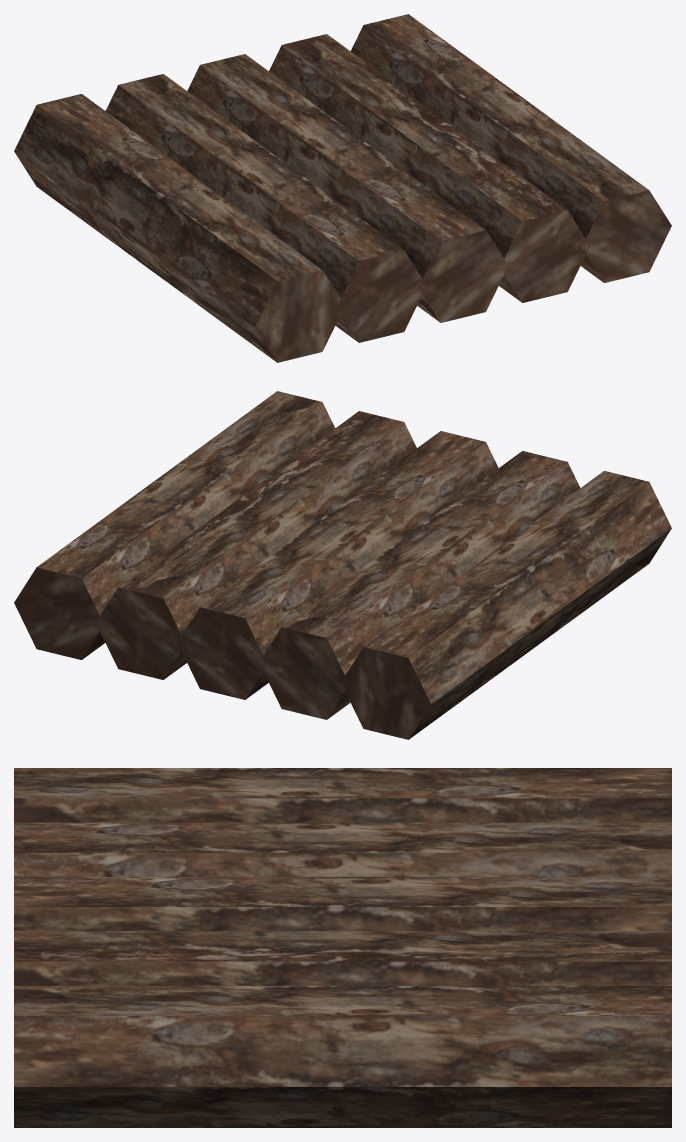
Rendered from dsPlatformWood.glb.
The picture shows the model from 3 angles, top to bottom: view 1: azimuth 30°, elevation 25°; view 2: azimuth 150°, elevation 25°; view 3: azimuth 270°, elevation 25°; orthographic projection. The views are drawn at different scales.
Visible parts, largest first — view 1: Cylinder.002, Cylinder, Cylinder.004, Cylinder.003, Cylinder.001; view 2: Cylinder.002, Cylinder, Cylinder.004, Cylinder.001, Cylinder.003; view 3: Cylinder.004, Cylinder, Cylinder.001, Cylinder.002, Cylinder.003.
Boxes of the visible parts, x1,y1,x2,y2 form: Cylinder.002: (14,94,340,362); Cylinder: (187,54,508,322); Cylinder.004: (350,14,671,282); Cylinder.003: (269,34,590,302); Cylinder.001: (105,74,423,342); Cylinder.002: (341,471,671,739); Cylinder: (177,431,498,699); Cylinder.004: (14,391,335,659); Cylinder.001: (259,451,580,719); Cylinder.003: (95,411,416,679); Cylinder.004: (14,986,671,1127); Cylinder: (14,877,671,931); Cylinder.001: (14,822,671,876); Cylinder.002: (14,768,671,822); Cylinder.003: (14,931,671,985).
Size of what is drawn, in the model's own units: 2.04 by 0.383 by 2.04.
Materials: 5 (5 with a texture image).
